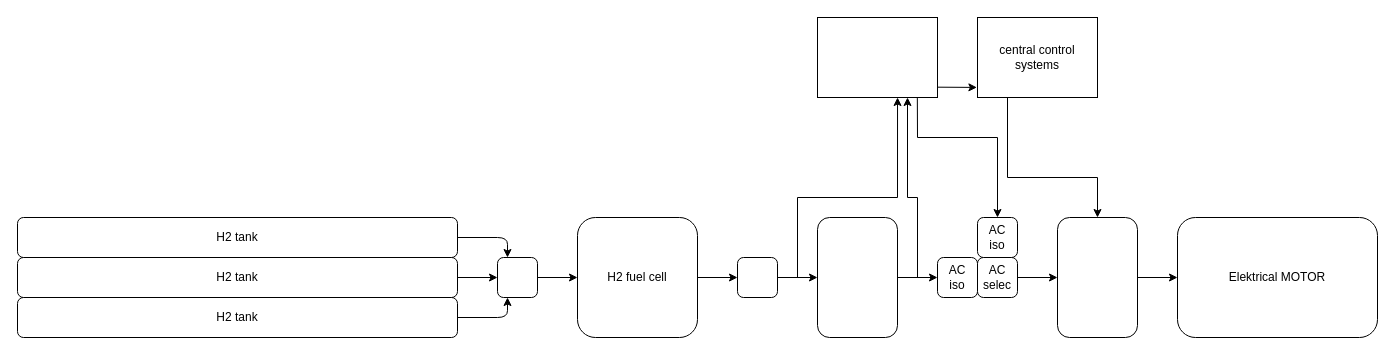
Some shapes in this 1395 by 355 pixel diagram are drawn without their labels. The shapes that lost their labels are listed below. From the top down, each one's centre as x and y in pixels, then its label:
At [877,57]: "Main Power Distro".
At [517,277]: "Regulator".
At [757,277]: "DC iso".
At [857,277]: "DC | Ⅴ 3phase AC".
At [1097,277]: "3phase VFD".
